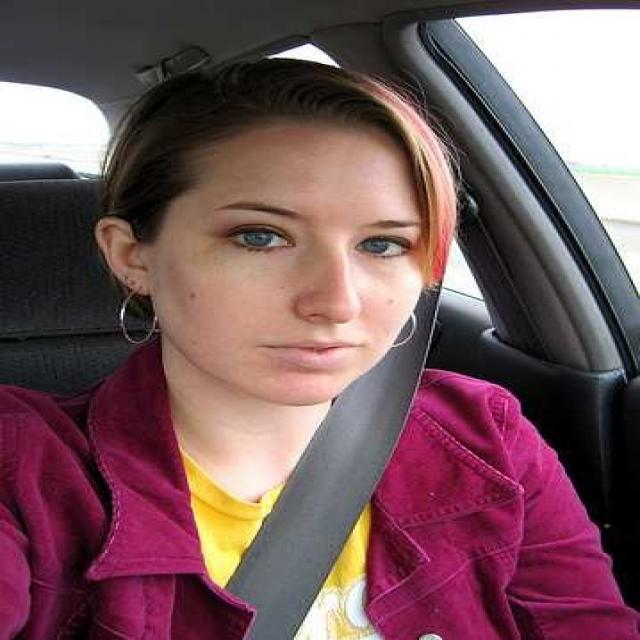seatbelt: (180, 202, 498, 590)
